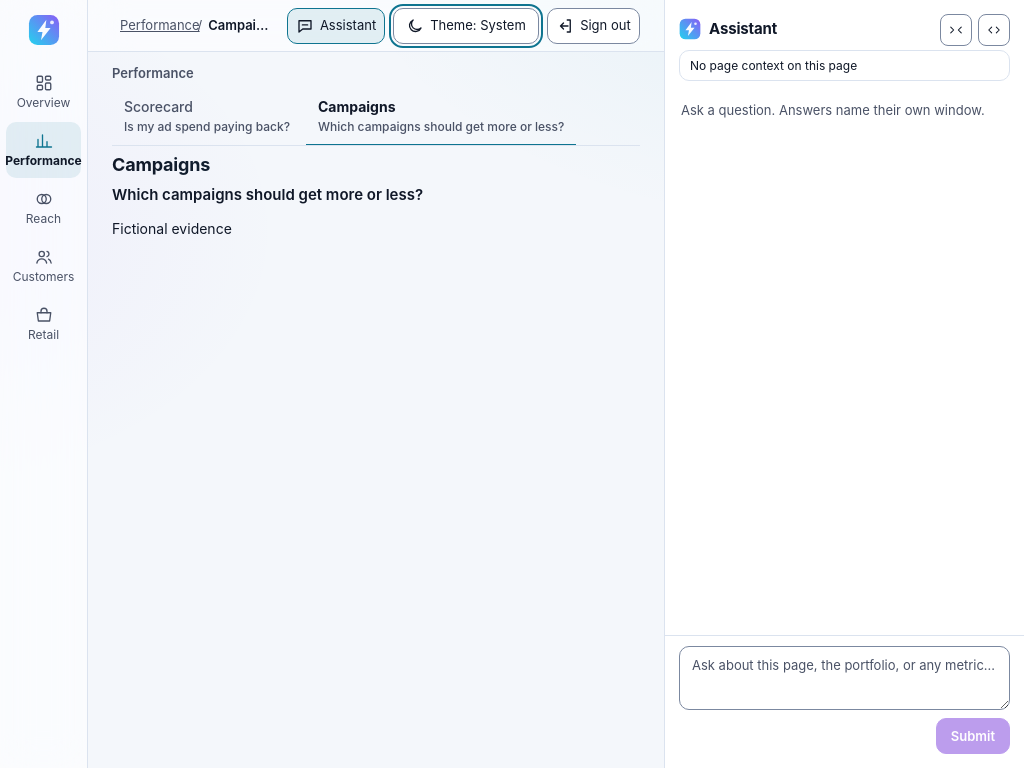
it: theme chooser supports roving keyboard focus and Escape restoration
Click the button "Theme: System": coordinates (466, 26) [393, 8, 539, 44]
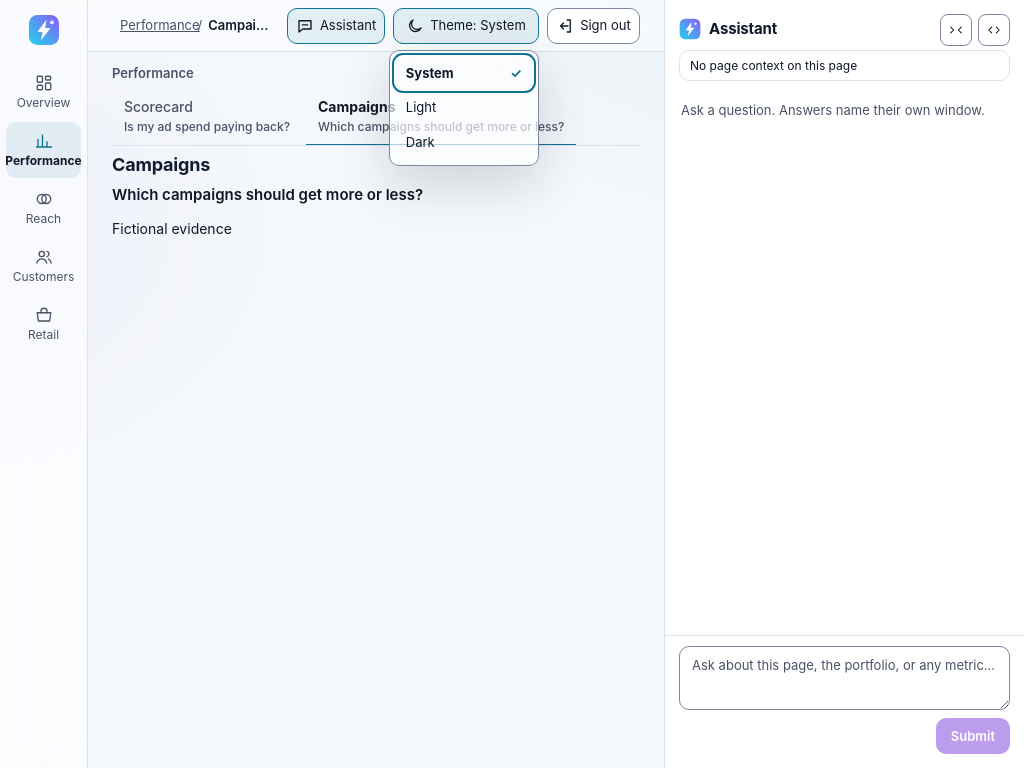
Press Arrowdown
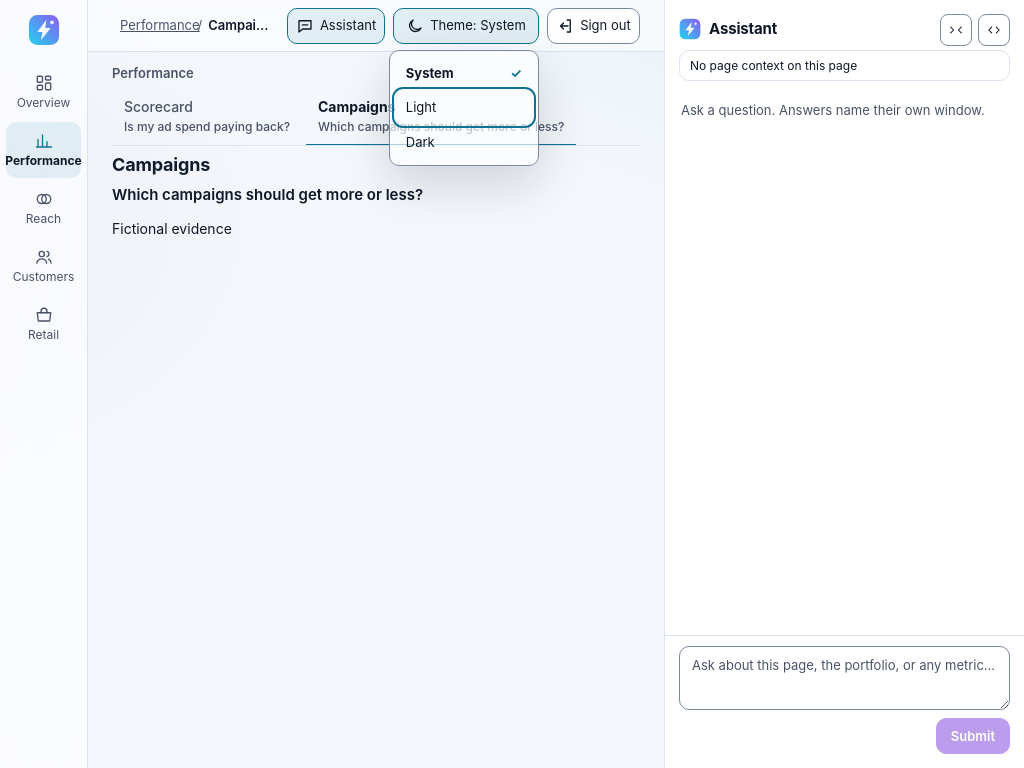
Press End
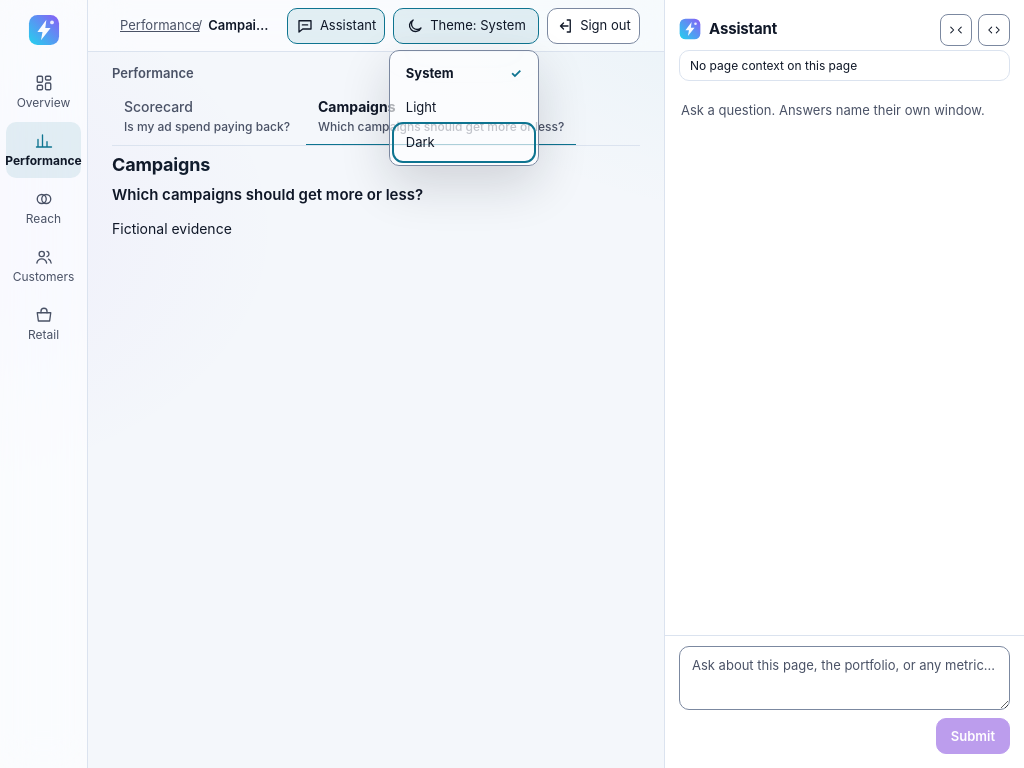
Press Escape
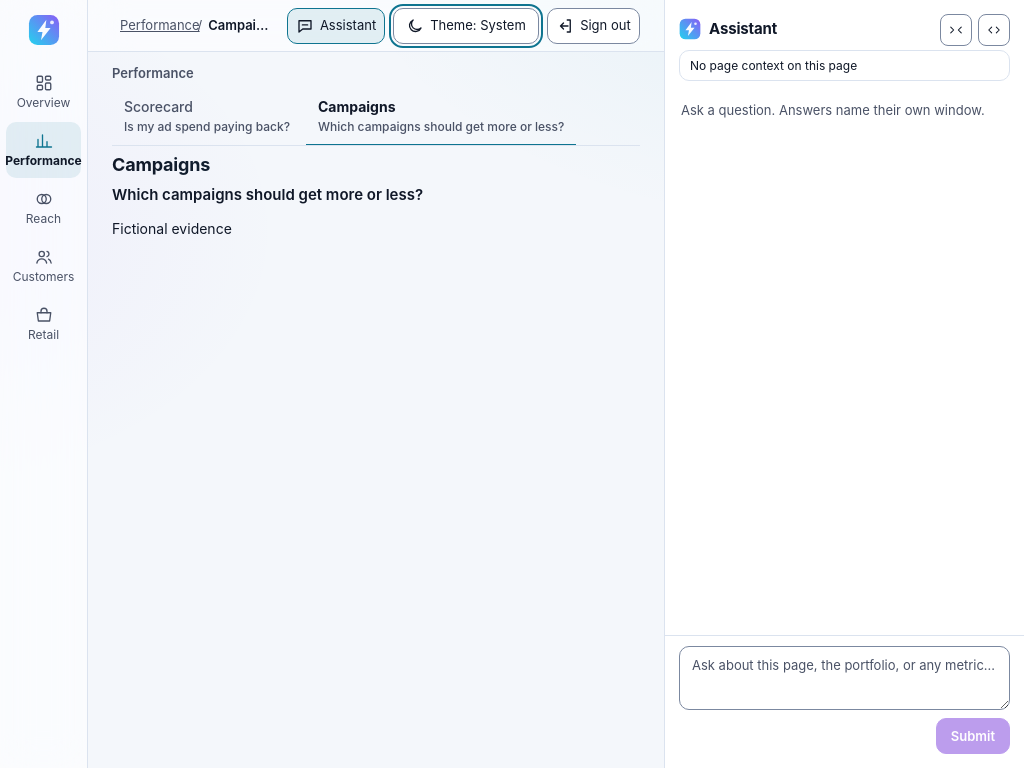
Expected: the menu is gone
